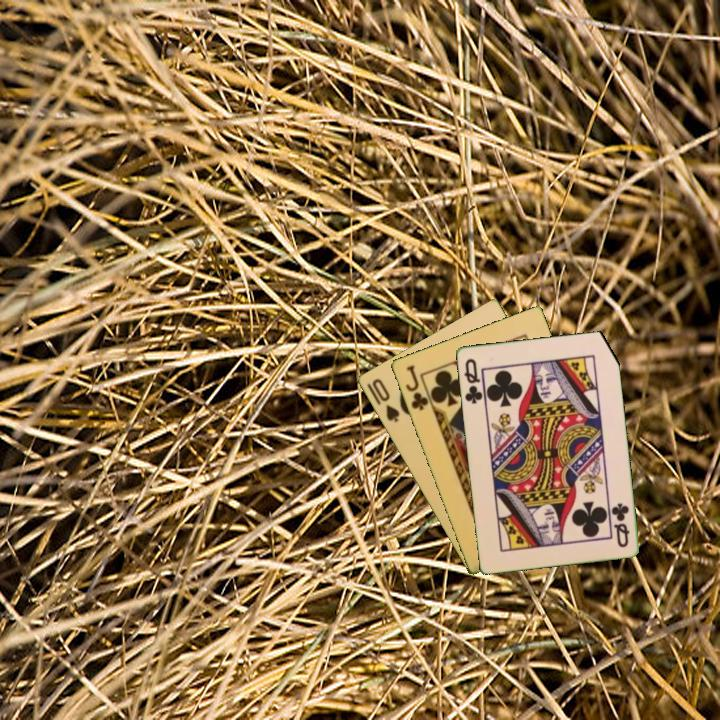10s: (368, 375, 402, 425)
Jc: (401, 361, 431, 413)
Qc: (460, 355, 485, 407), (608, 499, 632, 550)
